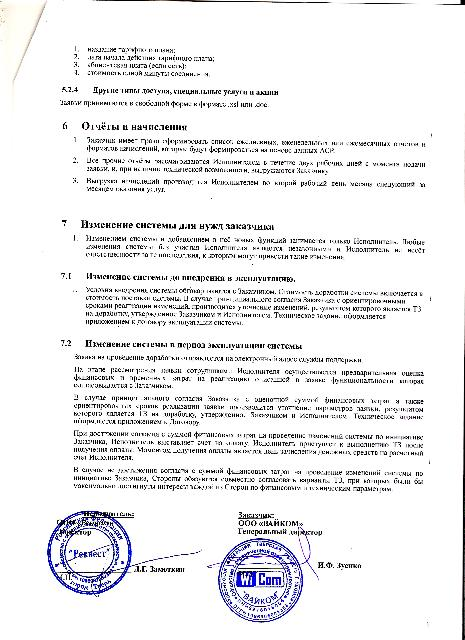stamp: (218, 539, 304, 623), (46, 511, 132, 594)
